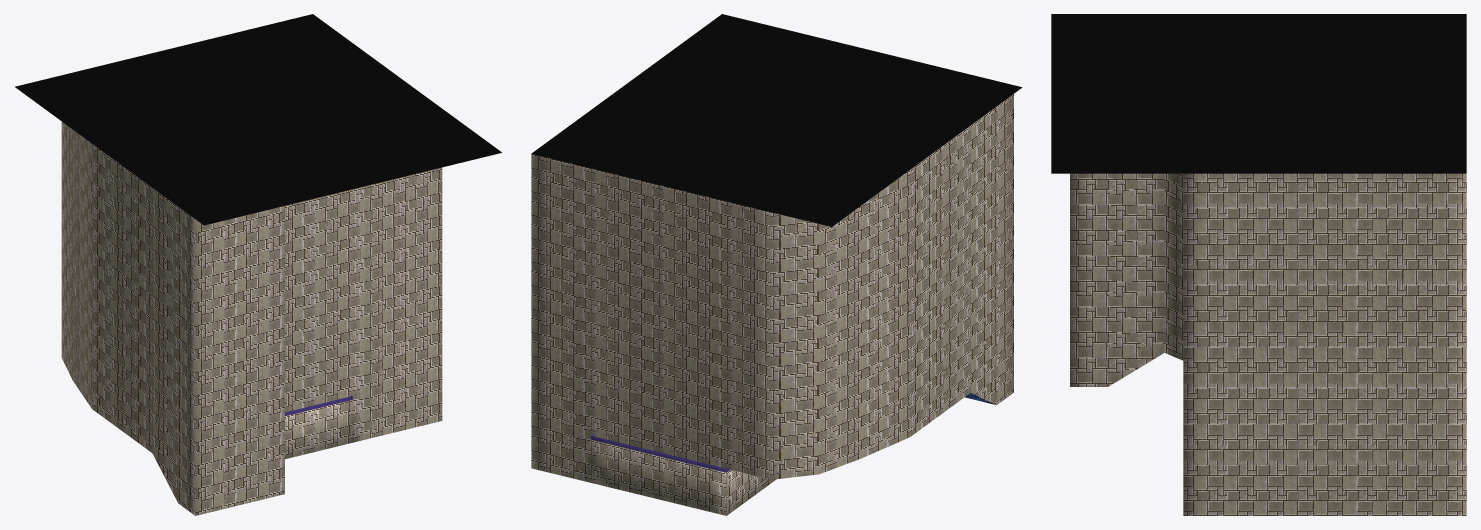
The model's file is r_CrewQuarters.fbx.
3 renders of one model, left to right at view 1: azimuth 30°, elevation 25°; view 2: azimuth 150°, elevation 25°; view 3: azimuth 270°, elevation 25°, orthographic. The views are drawn at different scales.
Parts seen in each view (by area): view 1: pPlane1, pPlane2; view 2: pPlane1, pPlane2; view 3: pPlane1, pPlane2.
Boxes of the visible parts, x1,y1,x2,y2 form: pPlane1: (61,121,442,515); pPlane2: (15,14,501,225); pPlane1: (531,94,1013,515); pPlane2: (531,14,1022,226); pPlane1: (1070,173,1466,515); pPlane2: (1051,14,1466,173).
Bounding box in the file's own units: 20 × 20 × 22.
